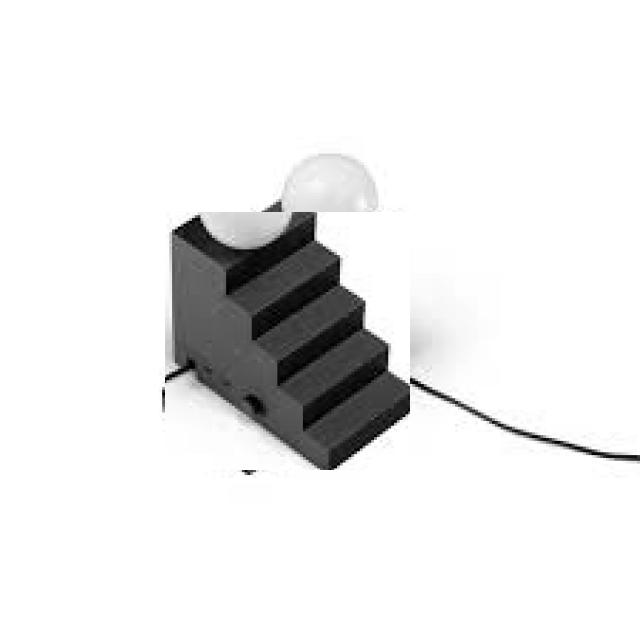stair: (166, 212, 410, 470)
